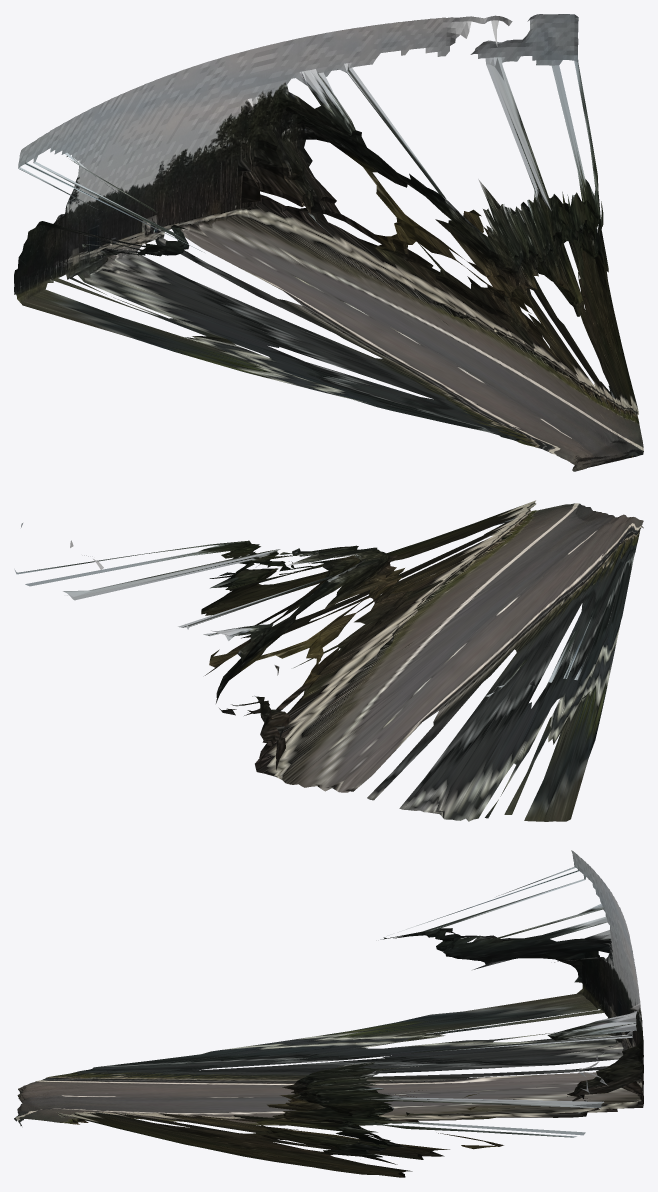
3 views of the same model, one above another, from view 1: azimuth 30°, elevation 25°; view 2: azimuth 150°, elevation 25°; view 3: azimuth 270°, elevation 25° (orthographic). The views are drawn at different scales.
Parts seen in each view (by area): view 1: defaultobject; view 2: defaultobject; view 3: defaultobject.
Part boxes in pixels (x1,y1,x2,y2): defaultobject: (14,14,643,471); defaultobject: (14,500,643,821); defaultobject: (14,850,643,1177).
Size of the model in its own units: 40.94 by 12.37 by 44.39.
Materials: 1 (1 with a texture image).
